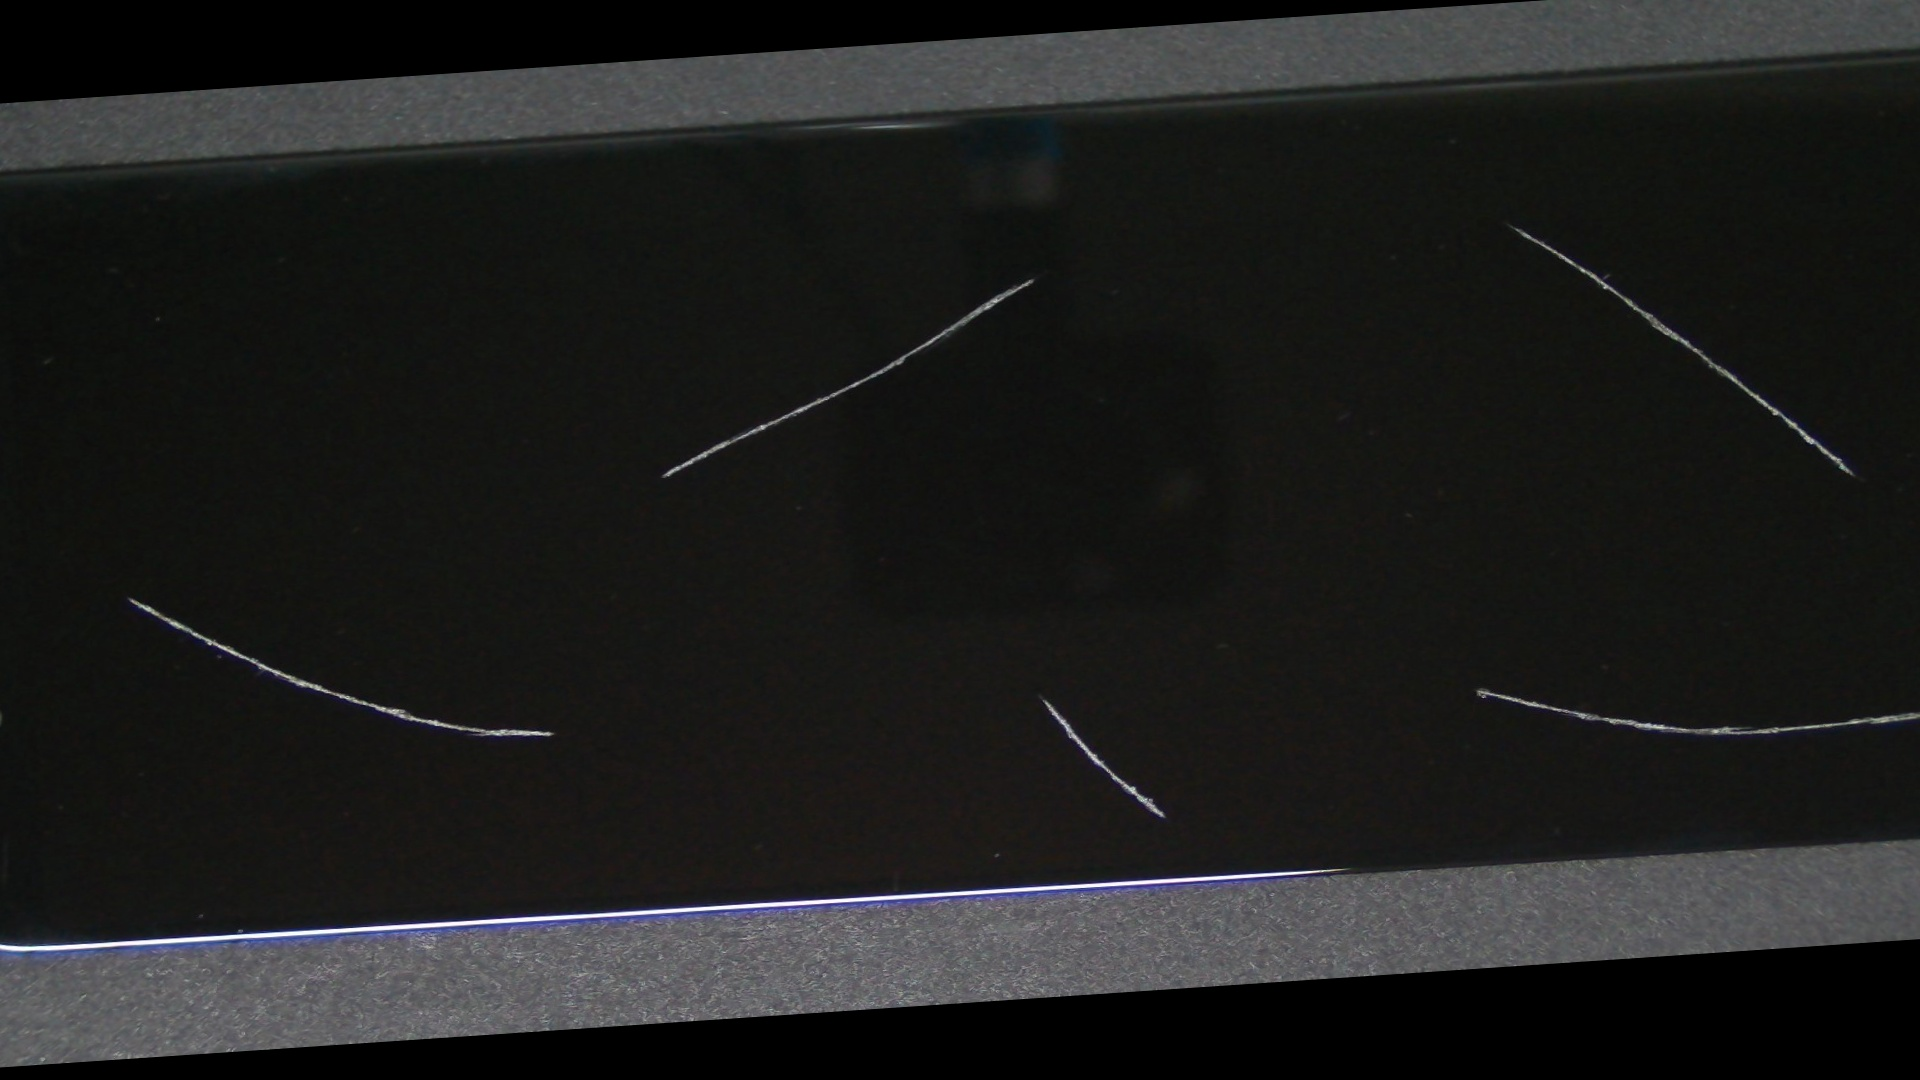oil: (657, 303, 1920, 1021), (434, 328, 1644, 1035), (666, 73, 1920, 392), (431, 117, 1631, 440), (0, 334, 282, 861)
